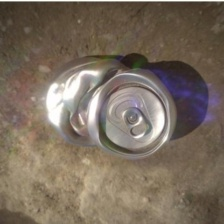can: (40, 53, 178, 162)
